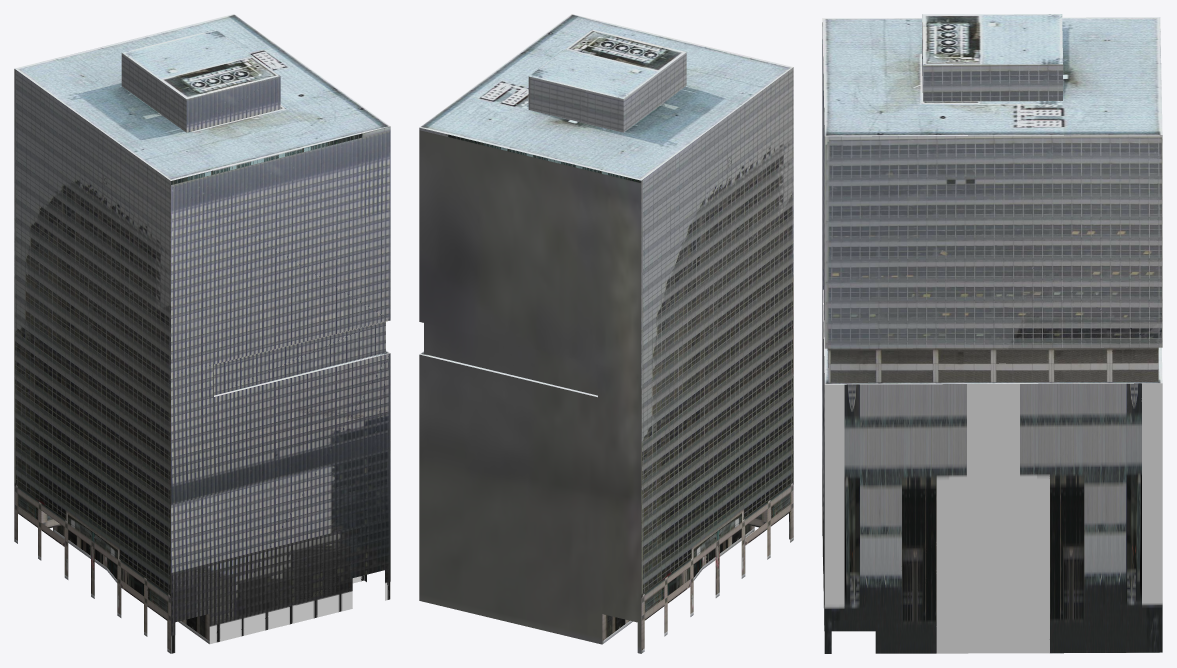
File: 101NWacker.fbx
The picture shows the model from 3 angles, left to right: view 1: azimuth 30°, elevation 25°; view 2: azimuth 150°, elevation 25°; view 3: azimuth 270°, elevation 25°; orthographic projection. The views are drawn at different scales.
Parts seen in each view (by area): view 1: Model; view 2: Model; view 3: Model.
Boxes of the visible parts, x1,y1,x2,y2 form: Model: [14, 14, 390, 653]; Model: [419, 14, 793, 653]; Model: [822, 14, 1162, 653].
Size of what is drawn, in the model's own units: 1797 by 3900 by 2169.
